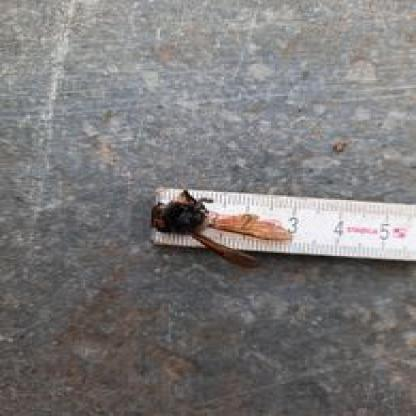Asian Hornet: (141, 190, 309, 266)
